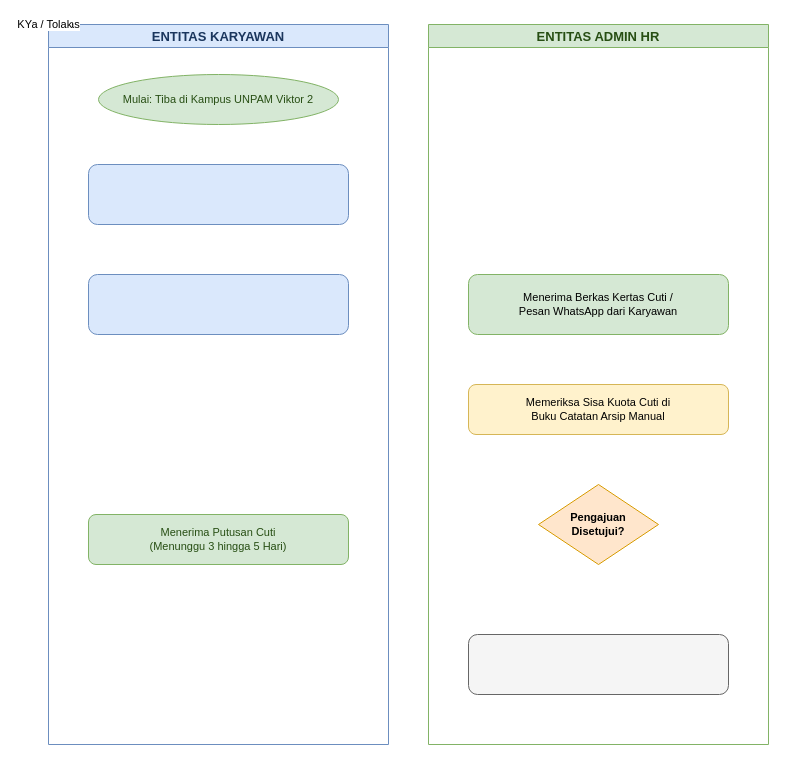
Image size: 786x763. Some labels were removed from this diagram. The shapes that lost their labels are listed below. From the top down, each one's box as (x1, y1, x2, y2) in pixels, then its label:
(88, 164, 348, 224): Tanda Tangan Manual Buku Absensi (Tanpa Verifikasi GPS / Rawan Titip Absen)
(88, 274, 348, 334): Mengisi Formulir Kertas Cuti atau Kirim Pesan WhatsApp Pribadi
(468, 634, 728, 694): Akhir Bulan: Salin Manual Data Presensi ke Microsoft Excel (Menyita 3-5 Hari)
